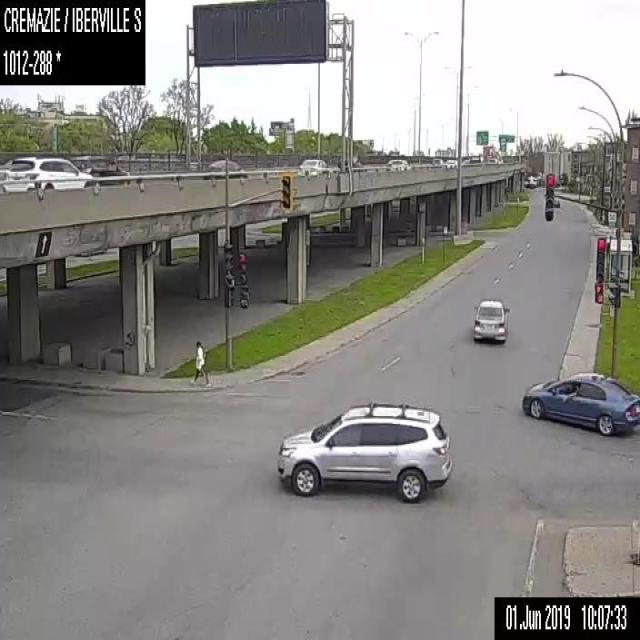pedestrian: (190, 340, 210, 387)
vehicle: (274, 400, 453, 503), (522, 369, 639, 436), (2, 154, 92, 192), (71, 154, 130, 184), (472, 296, 507, 342), (203, 157, 247, 178), (299, 158, 332, 174), (389, 156, 411, 170), (487, 148, 502, 165), (482, 144, 494, 160), (445, 158, 456, 168), (432, 157, 442, 166), (386, 158, 393, 169), (553, 198, 559, 206)
